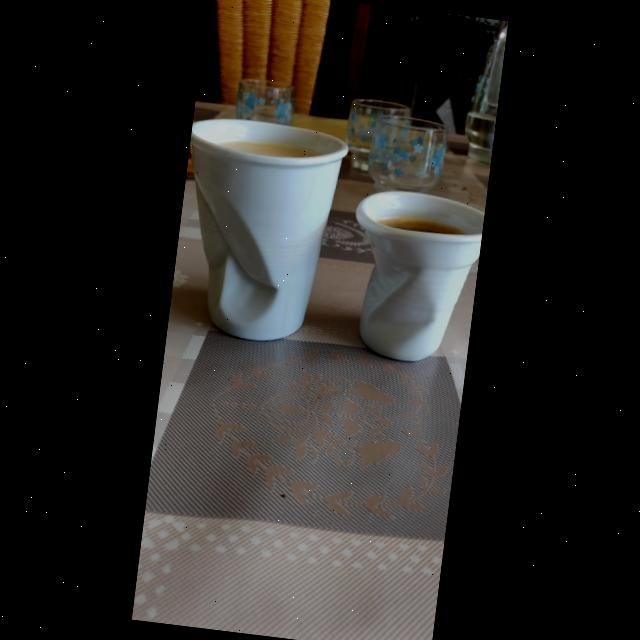trash: (167, 114, 346, 348), (340, 182, 488, 374)
